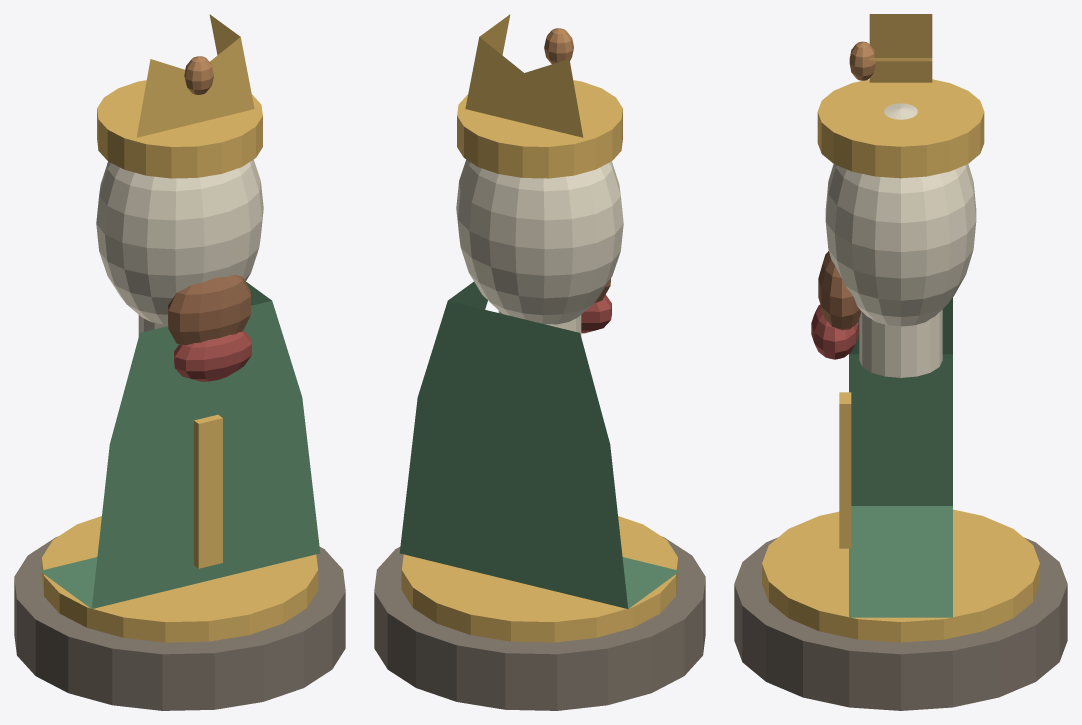
Rendered from rajaram-maharaj.glb.
3 renders of one model, left to right at view 1: azimuth 30°, elevation 25°; view 2: azimuth 150°, elevation 25°; view 3: azimuth 270°, elevation 25°, orthographic.
Visible parts, largest first — view 1: Rajaram Maharaj; view 2: Rajaram Maharaj; view 3: Rajaram Maharaj.
Boxes of the visible parts, x1,y1,x2,y2 form: Rajaram Maharaj: (14, 14, 345, 710); Rajaram Maharaj: (374, 14, 705, 710); Rajaram Maharaj: (734, 14, 1067, 710).
Bounding box in the file's own units: 0.96 × 1.92 × 0.96.
